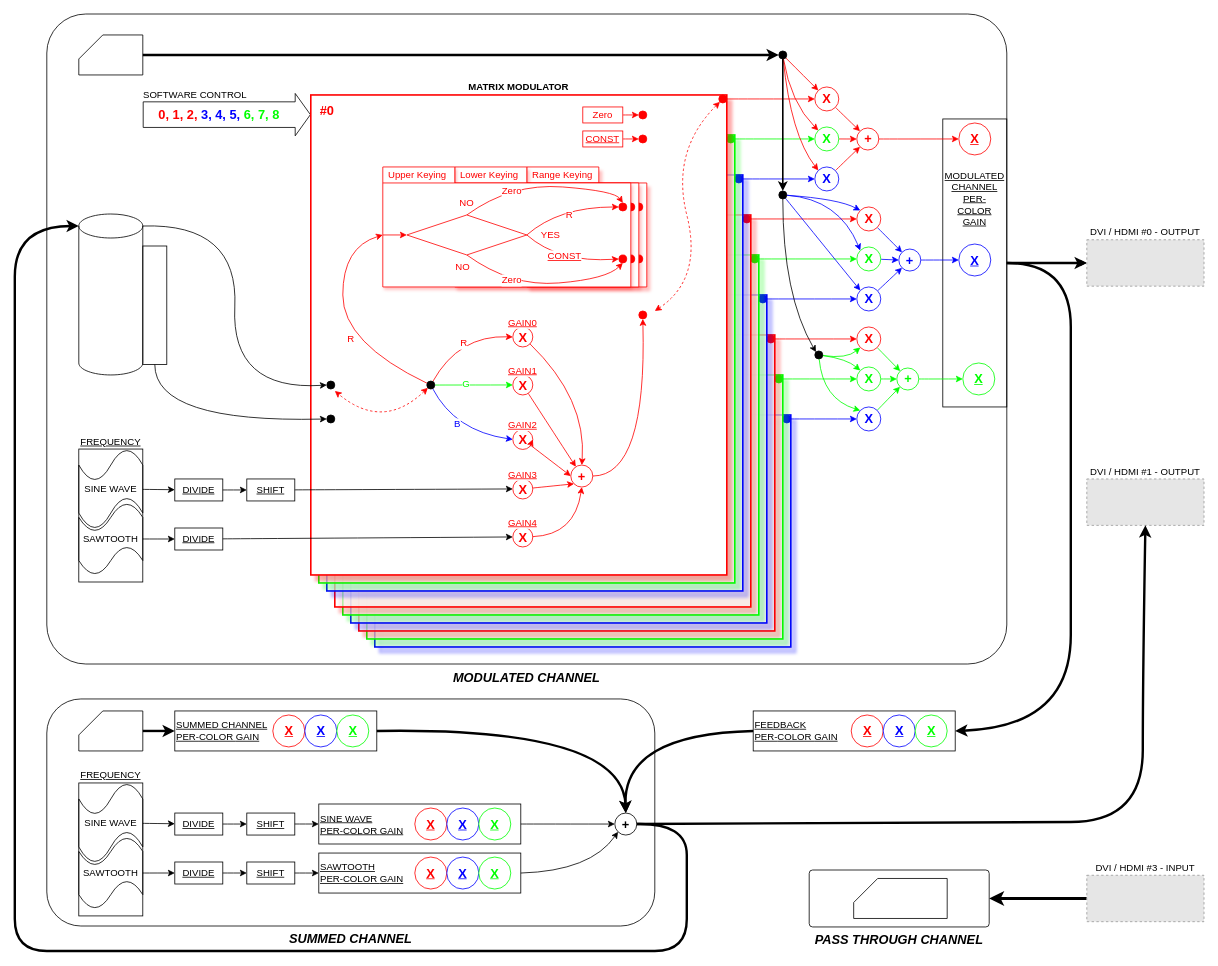
Some shapes in this 1218 by 966 pixel diagram are drawn without their labels. Grey dashed boxes stand in for pictures. Here are the shapes that lost their labels. From the top down, the centre of each, then its label:
At point 110,54: "FRAME BUFFER #0".
At point 466,234: "Above TOP ?".
At point 110,294: "PIXEL BUFFER".
At point 154,304: "PIXEL DELAY".
At point 110,730: "FRAME BUFFER #1".
At point 900,898: "FRAME BUFFER #2".
